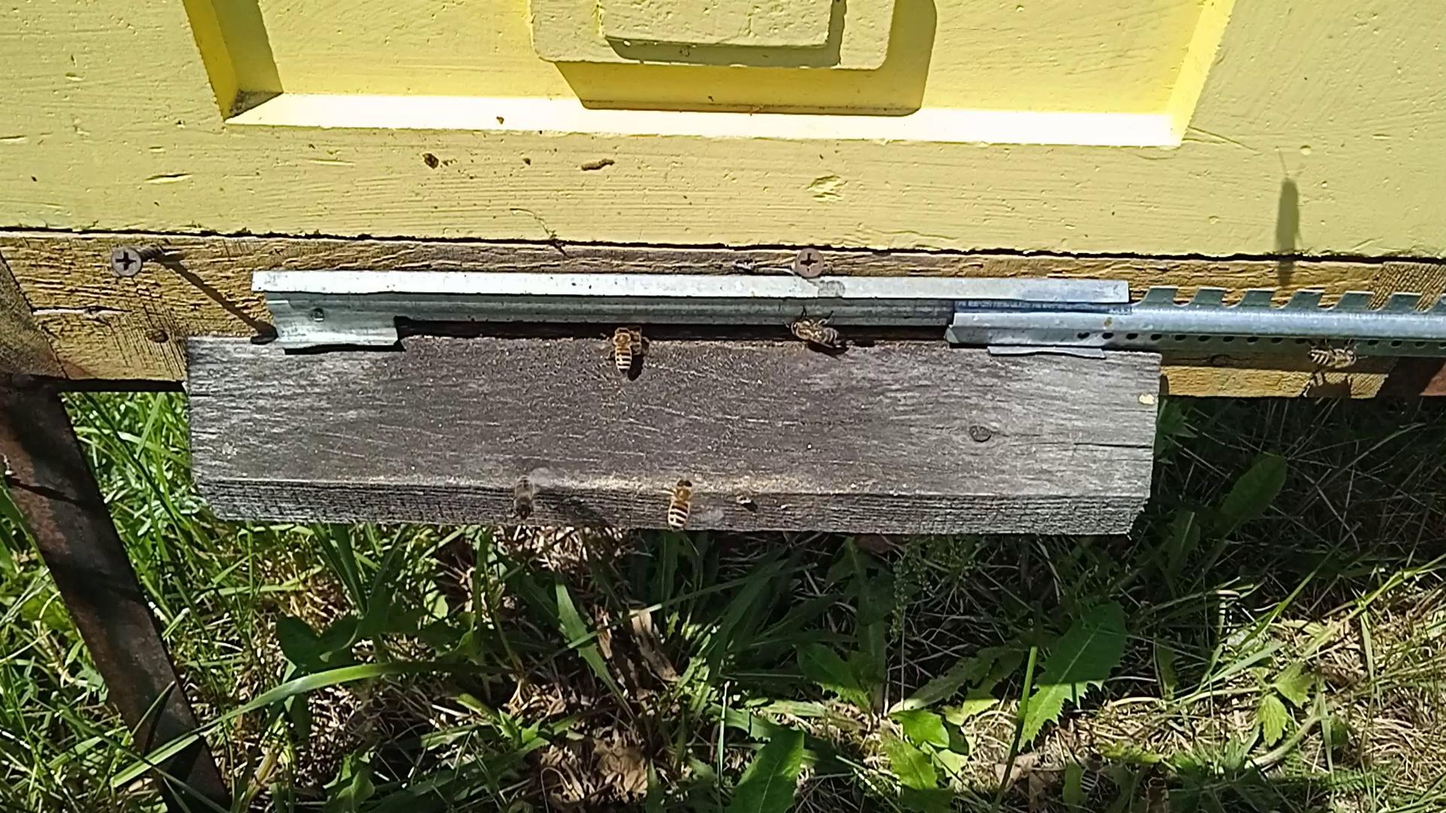worker-bee: (609, 324, 641, 376), (788, 316, 841, 346), (1304, 343, 1361, 370), (667, 478, 695, 532), (344, 697, 384, 732), (1079, 750, 1106, 793), (1141, 775, 1171, 813), (512, 474, 536, 521)
